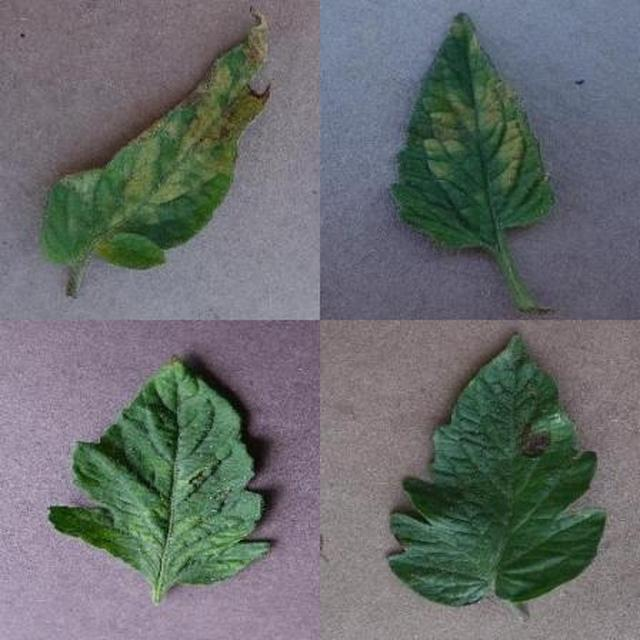Leaf Mold: (223, 186, 640, 640)
